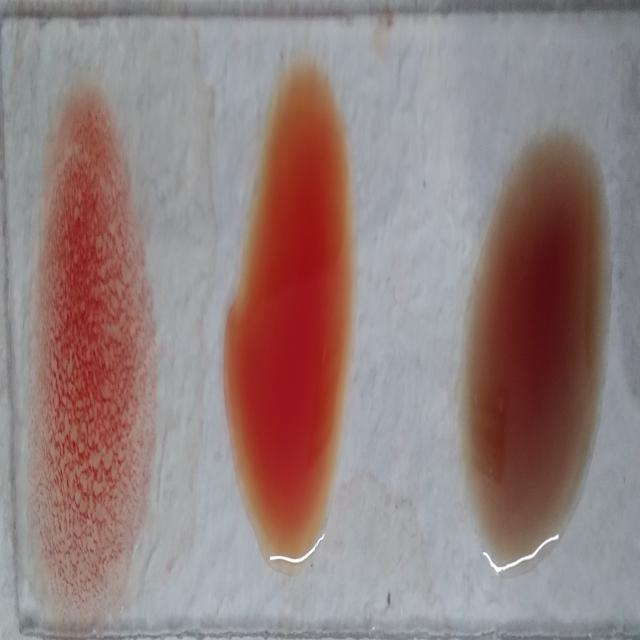D: (35, 102, 143, 604)
